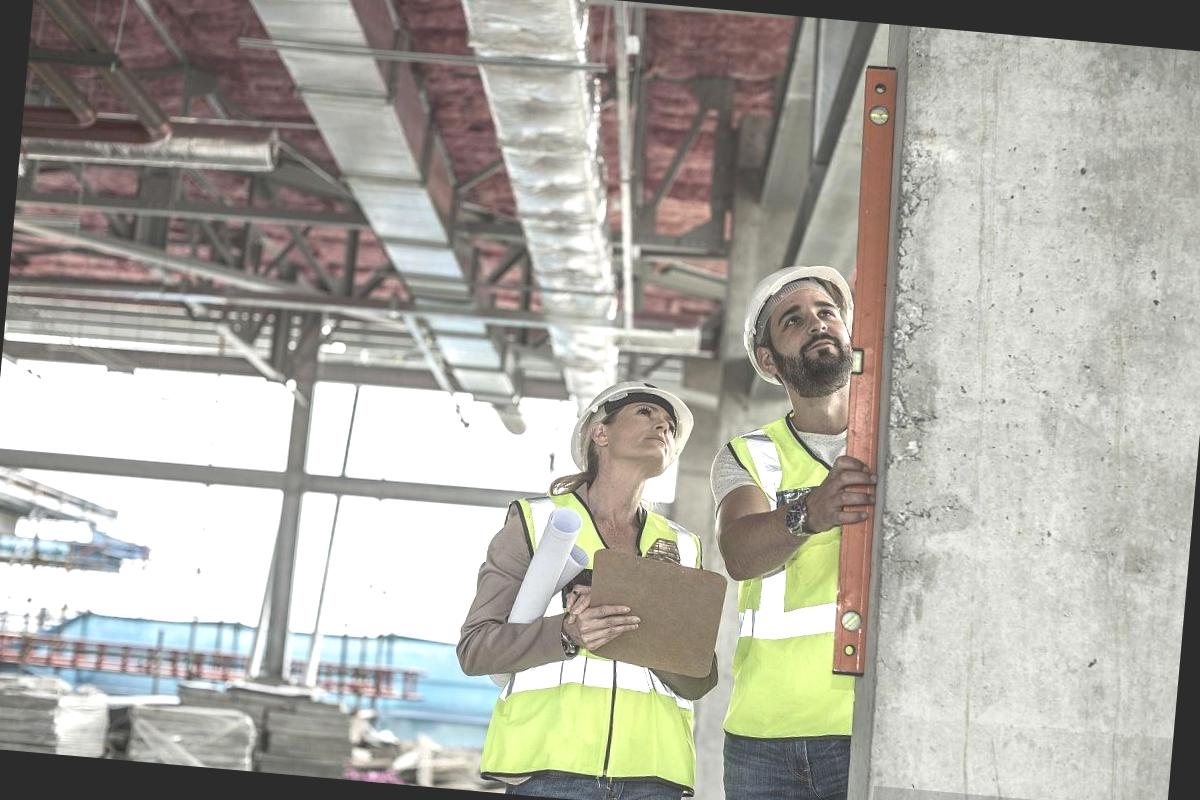person: (681, 242, 910, 800), (459, 360, 731, 800)
